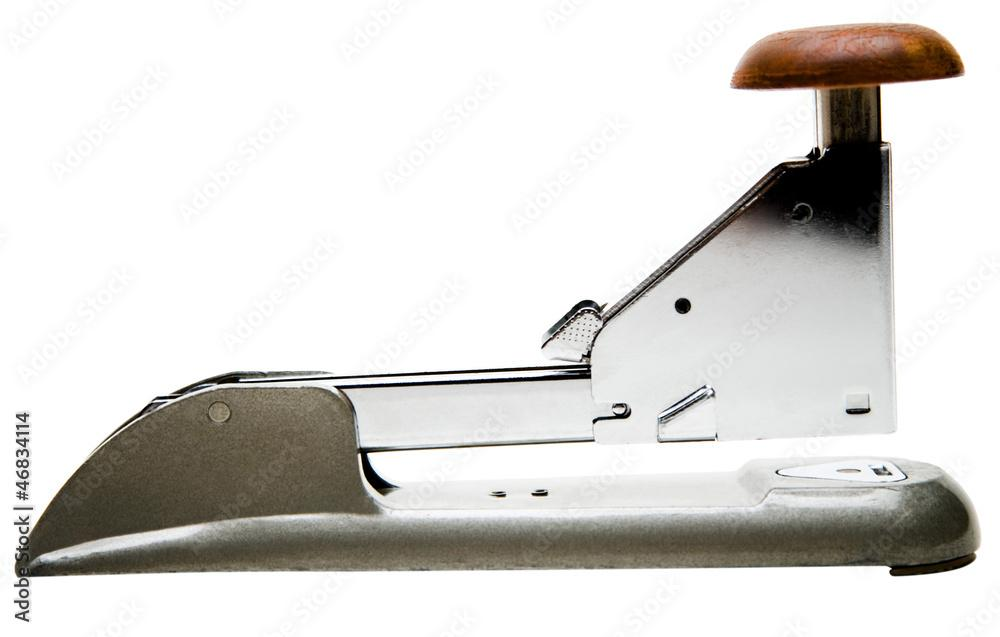Stapler: (47, 9, 995, 599)
